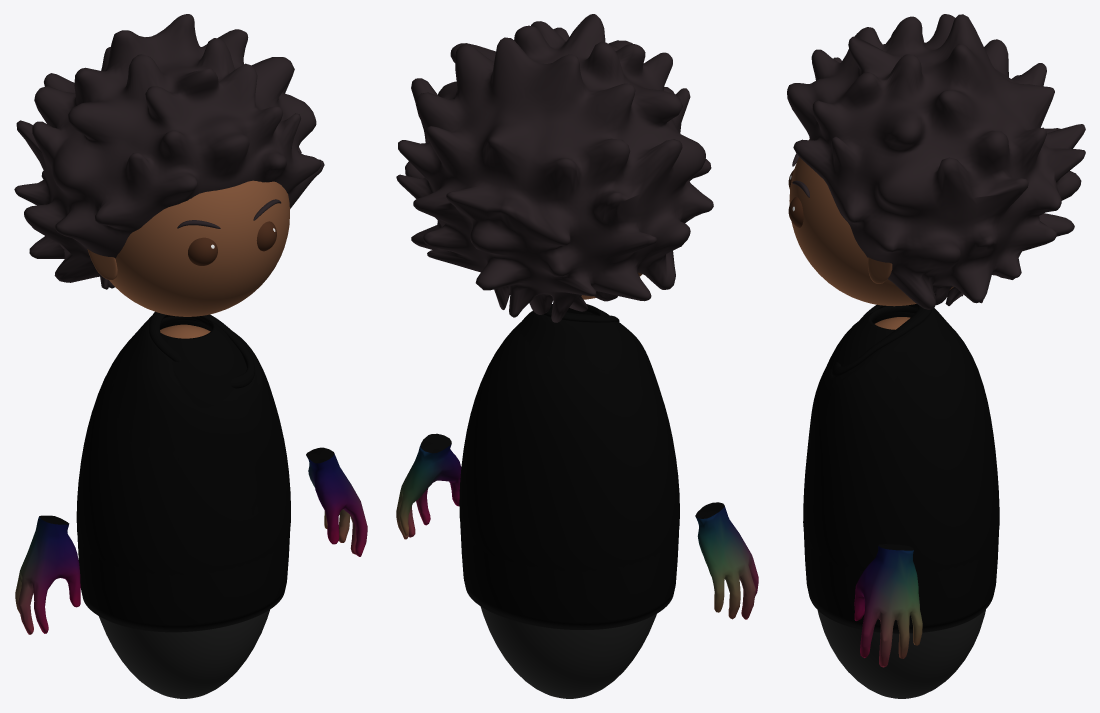
File: KaraWalker.fbx
3 renders of one model, left to right at view 1: azimuth 30°, elevation 25°; view 2: azimuth 150°, elevation 25°; view 3: azimuth 270°, elevation 25°, orthographic. The views are drawn at different scales.
Parts seen in each view (by area): view 1: Hair.006, Body.010, Body.011, Head.007, Body.009, Hands.007, Eyes.007; view 2: Hair.006, Body.011, Body.010, Body.009, Hands.007; view 3: Hair.006, Body.011, Body.010, Body.009, Head.007, Hands.007, Cube.006.
Part boxes in pixels (bbox=[...]): Hair.006: bbox=[14, 14, 324, 289]; Body.010: bbox=[77, 311, 290, 632]; Body.011: bbox=[76, 316, 290, 575]; Head.007: bbox=[109, 180, 289, 316]; Body.009: bbox=[99, 324, 269, 698]; Hands.007: bbox=[15, 447, 367, 634]; Eyes.007: bbox=[188, 221, 276, 265]; Hair.006: bbox=[396, 14, 713, 322]; Body.011: bbox=[459, 304, 679, 571]; Body.010: bbox=[460, 307, 678, 629]; Body.009: bbox=[480, 606, 656, 698]; Hands.007: bbox=[396, 433, 758, 619]; Hair.006: bbox=[787, 14, 1085, 309]; Body.011: bbox=[803, 305, 999, 573]; Body.010: bbox=[803, 304, 998, 633]; Body.009: bbox=[817, 317, 985, 698]; Head.007: bbox=[789, 139, 953, 306]; Hands.007: bbox=[854, 544, 922, 667]; Cube.006: bbox=[868, 257, 892, 283].
Bounding box in the file's own units: 383 × 691 × 281.
